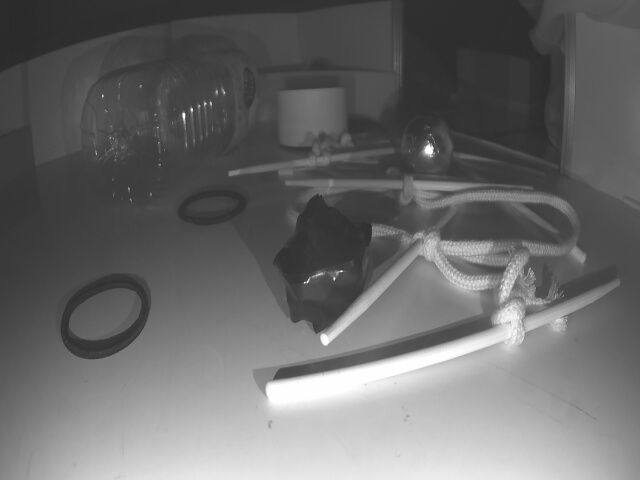Dead: (273, 192, 372, 338)
Live: (402, 112, 452, 177)
Point: (251, 61, 397, 125), (0, 126, 29, 190)
